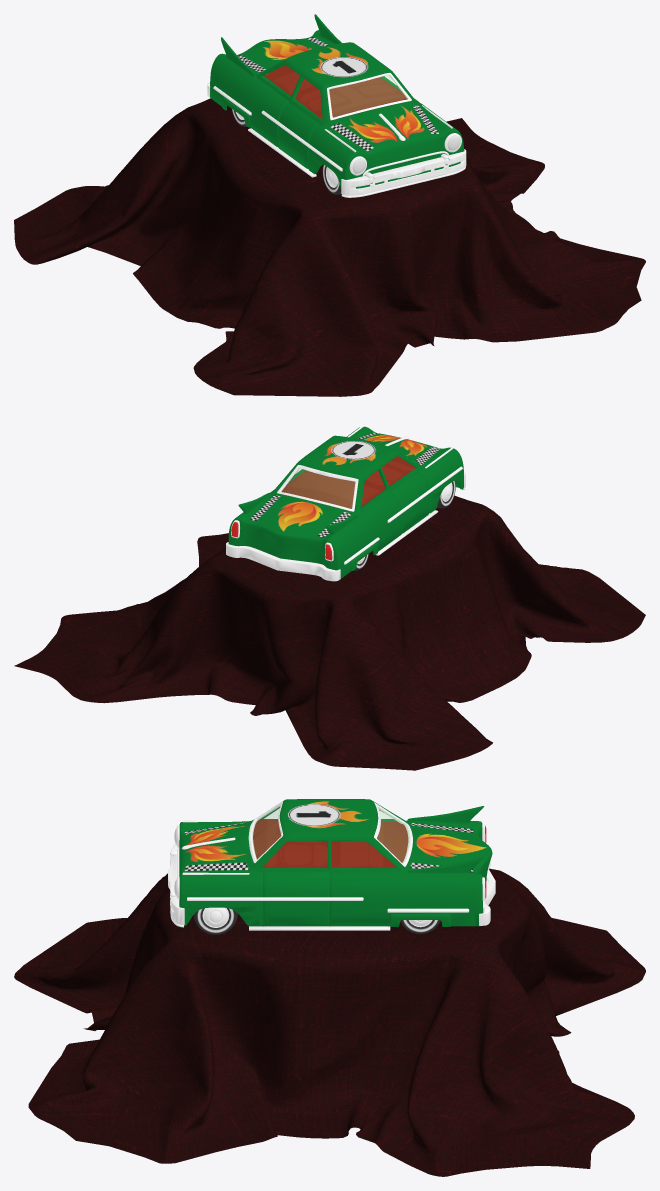
Rendered from car-toy-001.glb.
3 renders of one model, top to bottom at view 1: azimuth 30°, elevation 25°; view 2: azimuth 150°, elevation 25°; view 3: azimuth 270°, elevation 25°, orthographic. The views are drawn at different scales.
Parts seen in each view (by area): view 1: Fabric, ToyCar, Glass; view 2: Fabric, ToyCar, Glass; view 3: Fabric, ToyCar, Glass.
Part boxes in pixels (box(x1,y1,x2,y2)): Fabric: box(14, 98, 645, 396); ToyCar: box(207, 14, 466, 197); Glass: box(329, 75, 407, 116); Fabric: box(14, 495, 645, 770); ToyCar: box(226, 425, 465, 581); Glass: box(282, 468, 354, 508); Fabric: box(14, 868, 645, 1176); ToyCar: box(168, 799, 495, 934); Glass: box(252, 806, 409, 862).
Size of the model in its own units: 0.0734 by 0.0288 by 0.074.
Materials: 3 (2 with a texture image).
